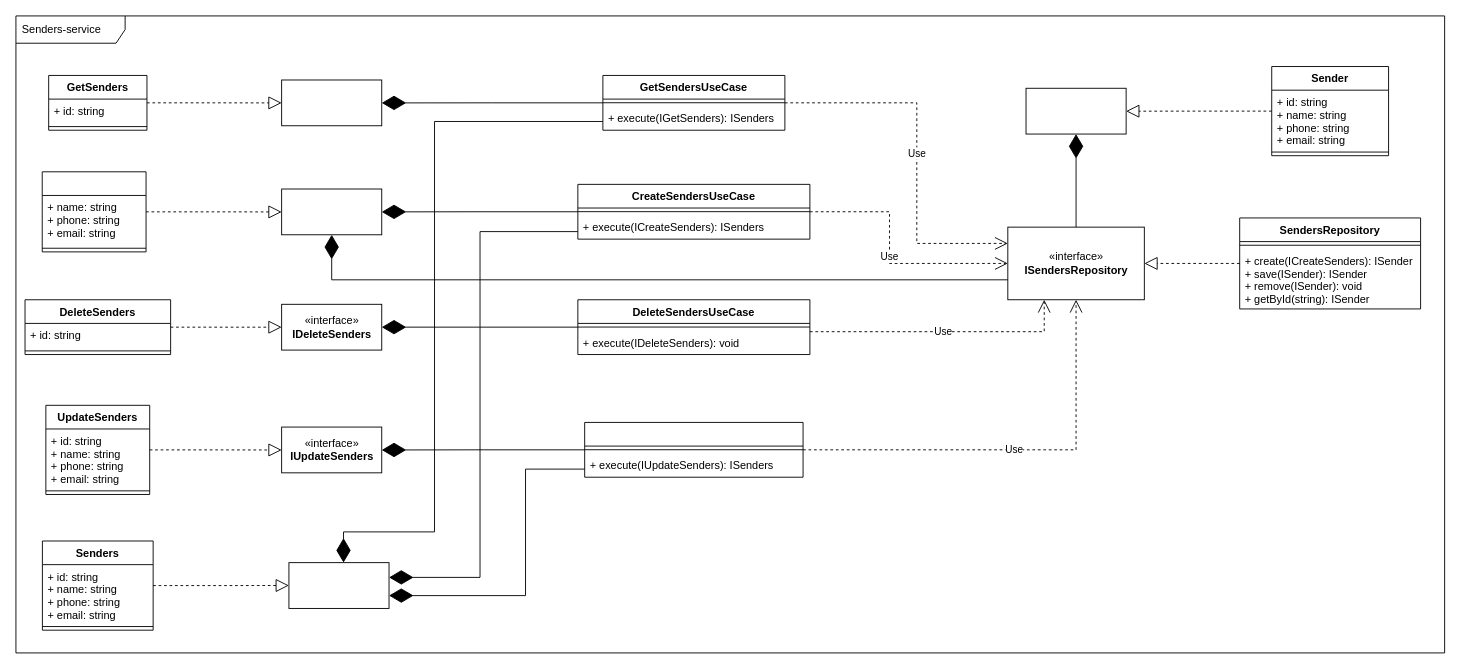
Image size: 1461x669. Some labels were removed from this diagram. Each missing label, with the box of its shape:
CreateSenders: (41, 171, 146, 252)
UpdateSendersUseCase: (584, 422, 803, 477)
«interface» ICreateSenders: (281, 188, 382, 235)
«interface» IGetSenders: (281, 79, 382, 126)
«interface» ISender: (1025, 87, 1126, 134)
«interface» ISenders: (288, 562, 389, 608)
